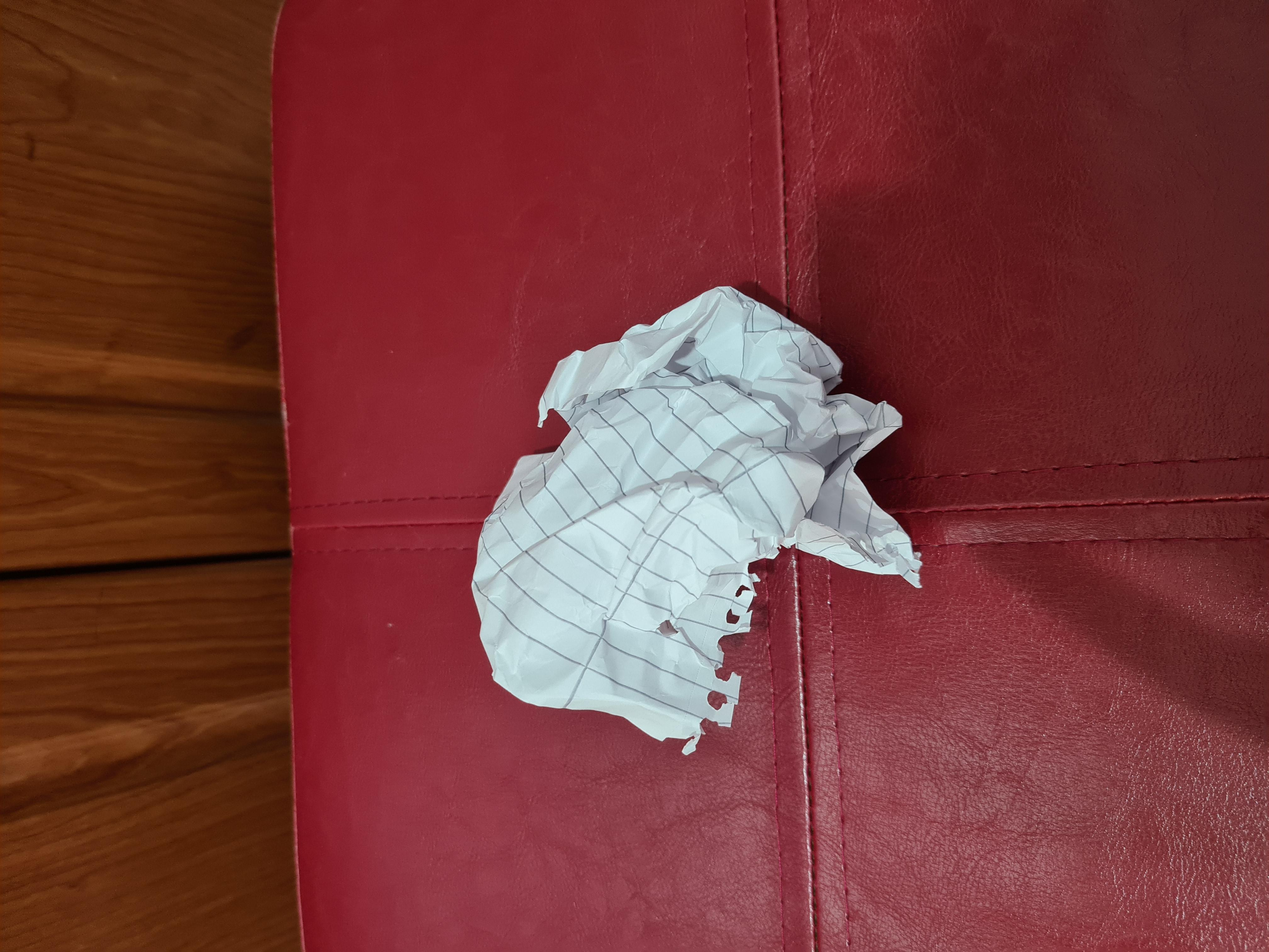paper: (283, 350, 894, 681)
